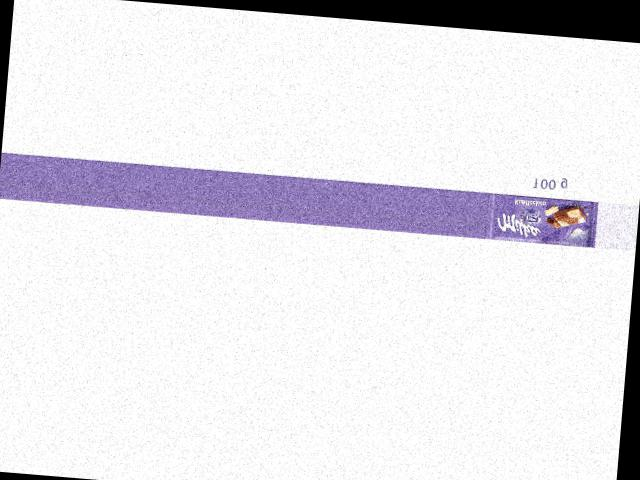chocolate: (485, 185, 600, 249)
